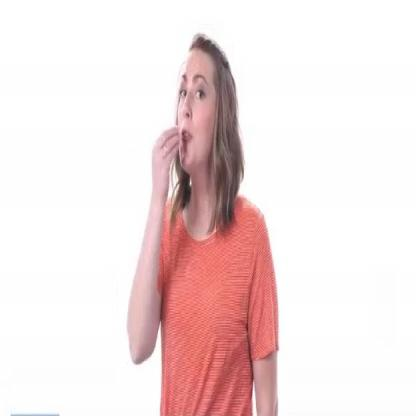Food: (141, 27, 241, 231)
